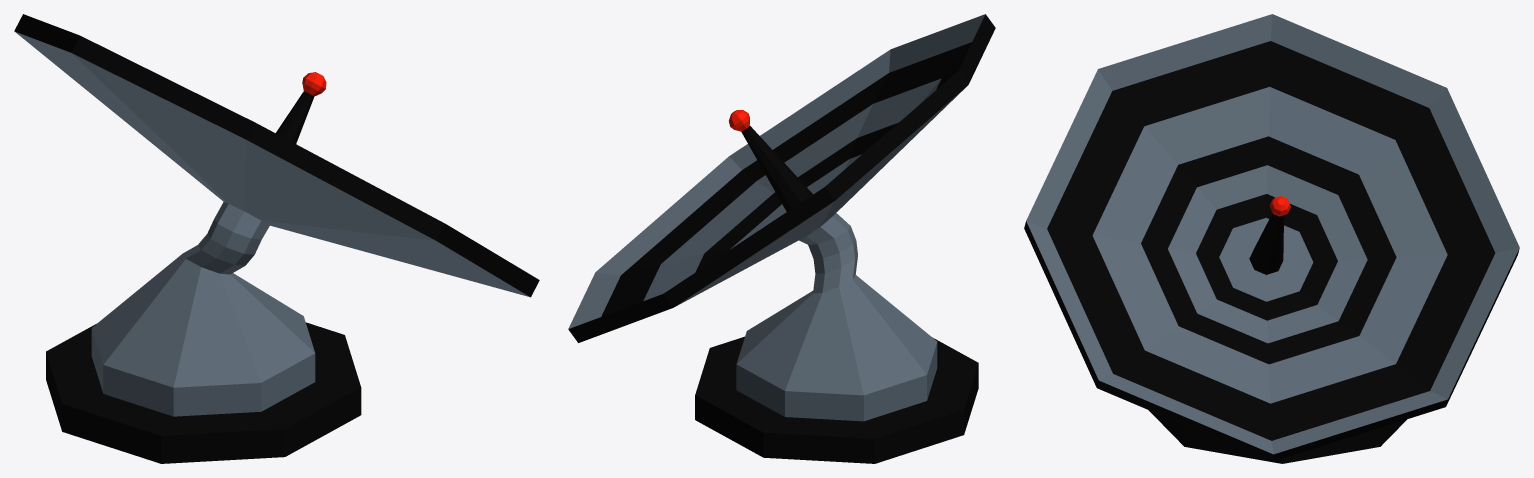
File: antenna.fbx
The picture shows the model from 3 angles, left to right: view 1: azimuth 30°, elevation 25°; view 2: azimuth 150°, elevation 25°; view 3: azimuth 270°, elevation 25°; orthographic projection. The views are drawn at different scales.
Parts seen in each view (by area): view 1: Cylinder; view 2: Cylinder; view 3: Cylinder.
Part boxes in pixels (x1,y1,x2,y2): Cylinder: (14,14,539,463); Cylinder: (568,14,995,463); Cylinder: (1024,14,1519,463).
Bounding box in the file's own units: 30.04 × 27.48 × 36.55.
